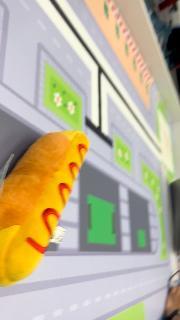hotdog: (1, 129, 91, 287)
